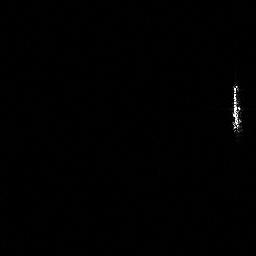ship: (228, 81, 244, 134)
